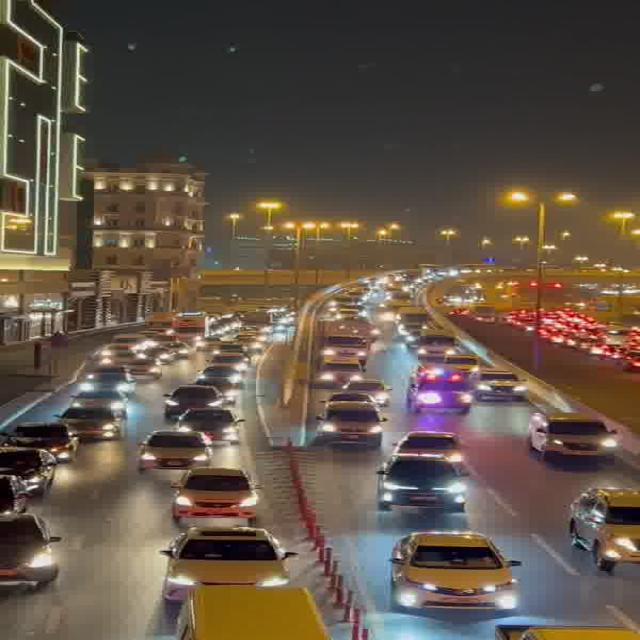ambulance: (401, 364, 481, 406)
